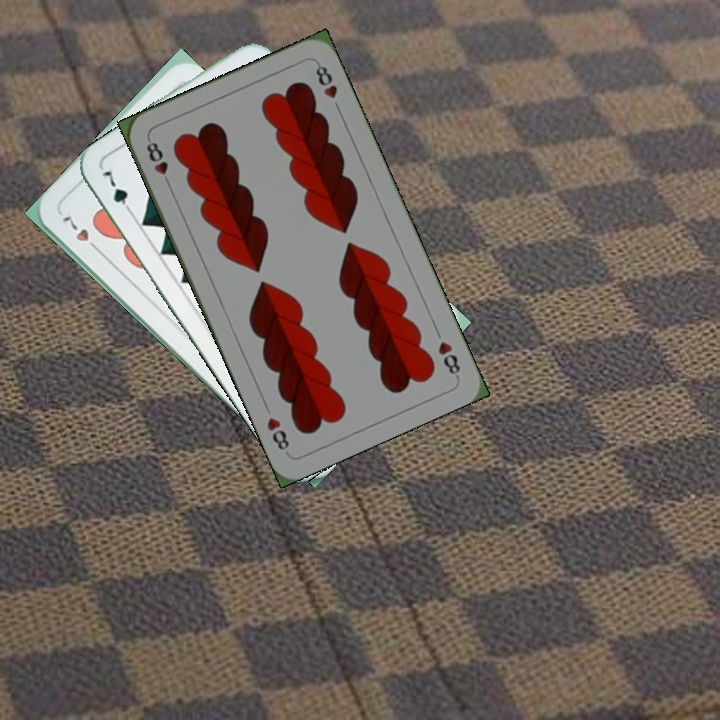G7: (98, 164, 136, 218)
H7: (58, 212, 104, 256)
H8: (142, 135, 175, 191), (433, 337, 463, 380)
